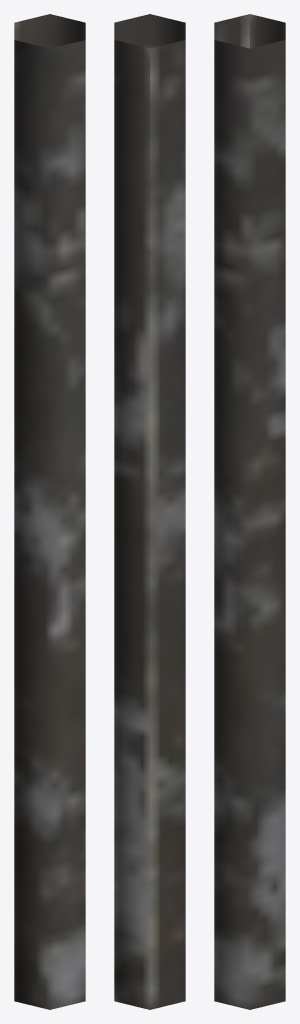
Rendered from ThickPipe_07.FBX.
3 views of the same model, side by side, from view 1: azimuth 30°, elevation 25°; view 2: azimuth 150°, elevation 25°; view 3: azimuth 330°, elevation 25° (orthographic).
Parts seen in each view (by area): view 1: ThickPipe_07; view 2: ThickPipe_07; view 3: ThickPipe_07.
Boxes of the visible parts, x1,y1,x2,y2 form: ThickPipe_07: (14, 14, 85, 1009); ThickPipe_07: (114, 14, 185, 1009); ThickPipe_07: (214, 14, 285, 1009).
Size of the model in its own units: 24 by 310 by 20.78.
